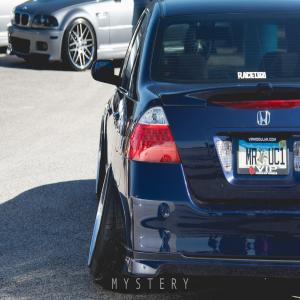Vehicle-registration-plate: (239, 132, 292, 181)
